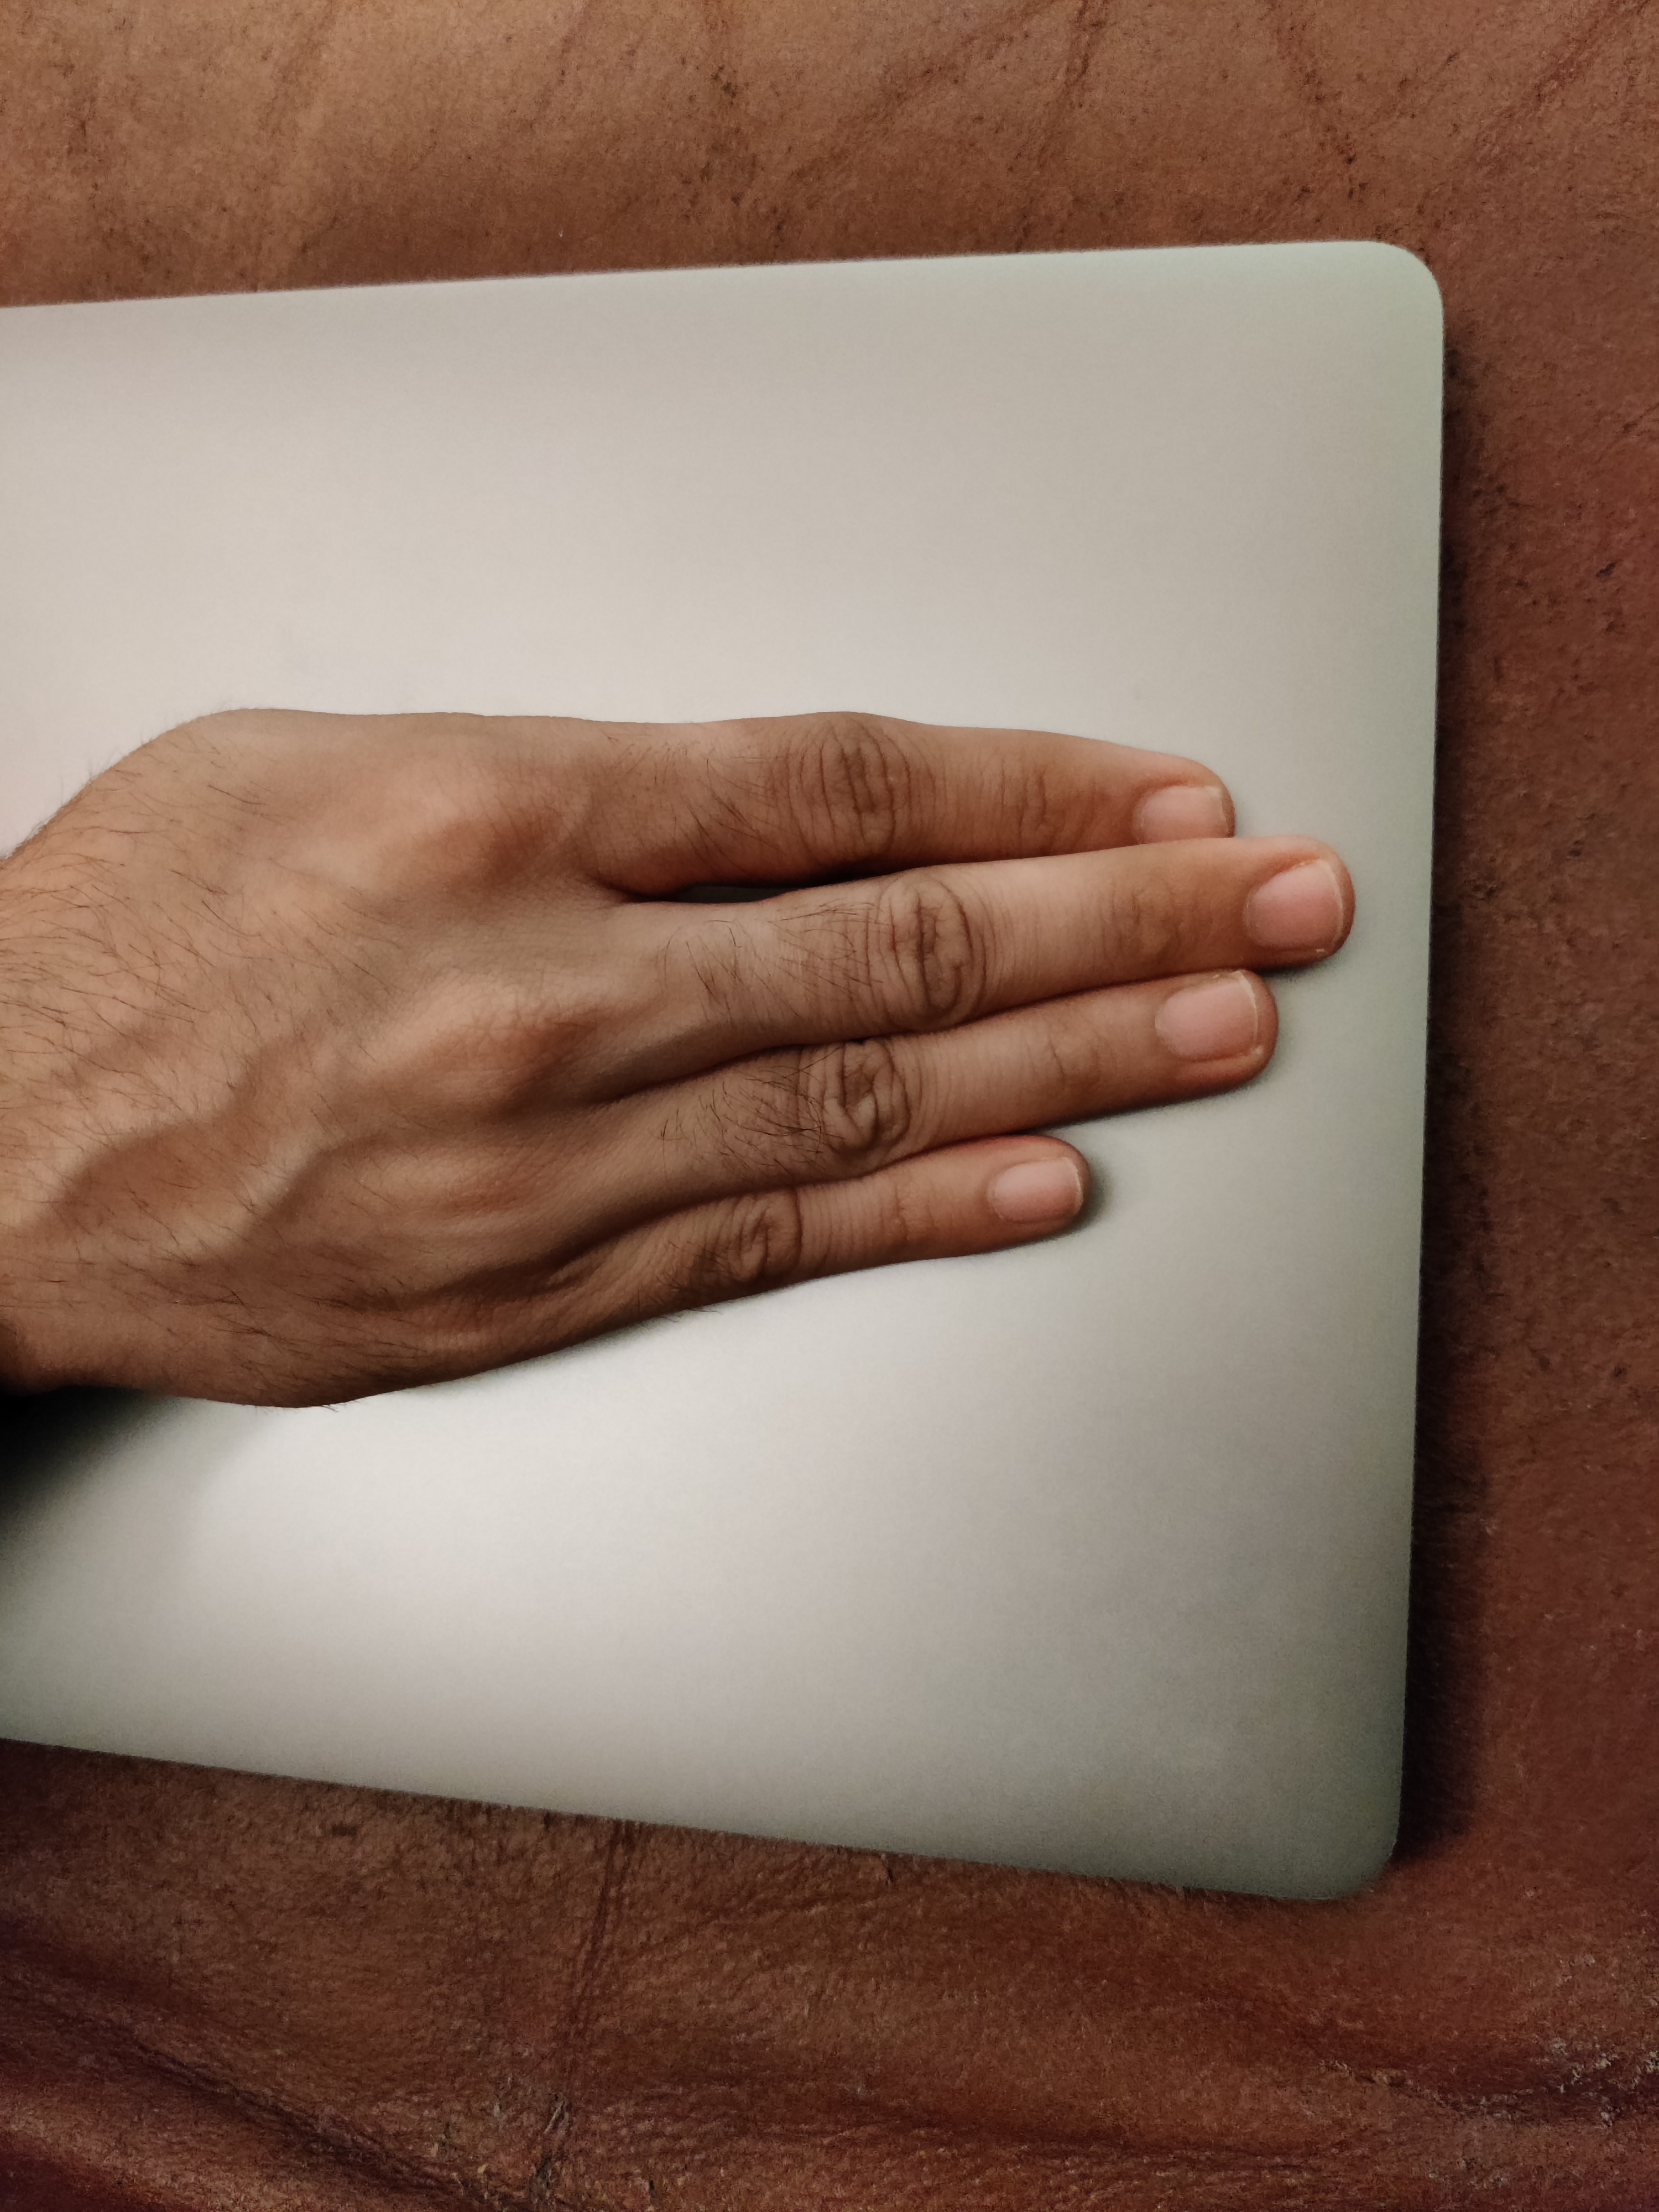left: (61, 563, 1453, 1569)
